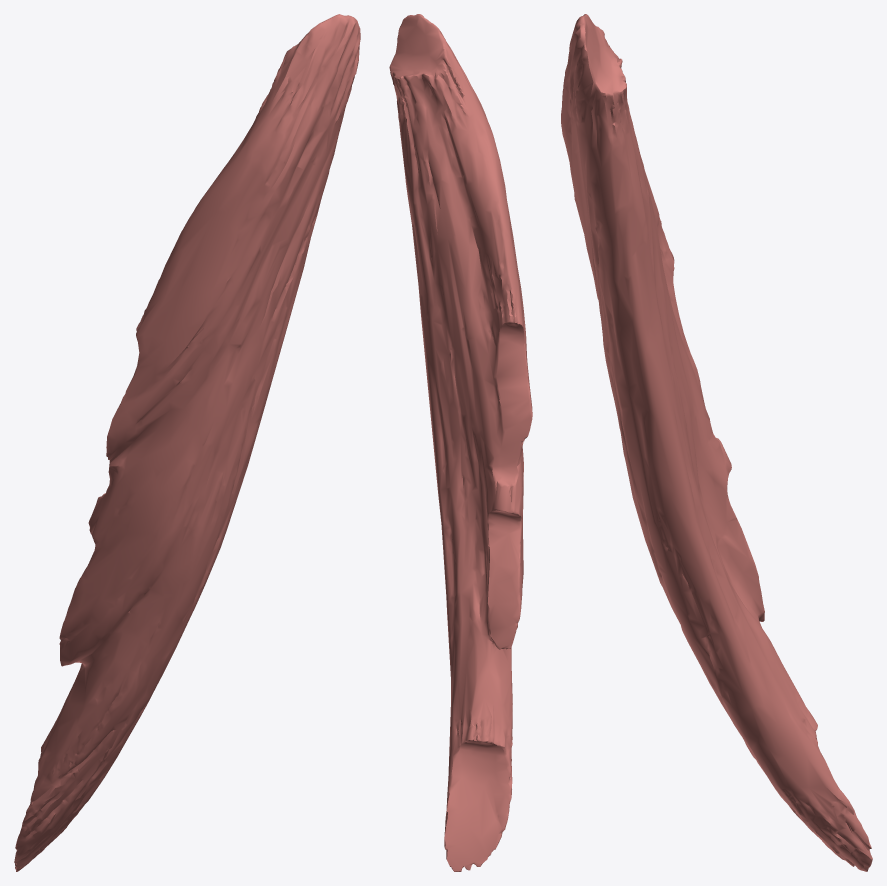
Rendered from fma46288.glb.
3 views of the same model, side by side, from view 1: azimuth 30°, elevation 25°; view 2: azimuth 150°, elevation 25°; view 3: azimuth 270°, elevation 25° (orthographic). The views are drawn at different scales.
Visible parts, largest first — view 1: FMA46288; view 2: FMA46288; view 3: FMA46288.
Part boxes in pixels (x1,y1,x2,y2): FMA46288: (14, 14, 360, 871); FMA46288: (389, 14, 532, 871); FMA46288: (561, 14, 872, 871).
Bounding box in the file's own units: 0.0204 × 0.0734 × 0.0219.
